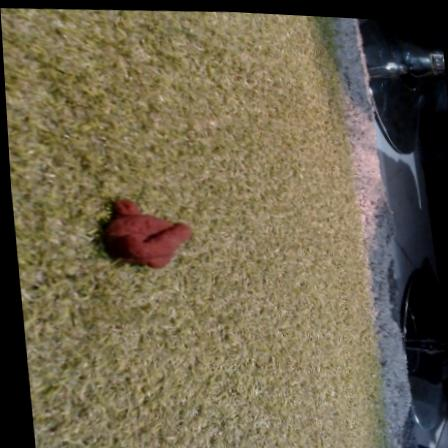dog-poop: (92, 183, 197, 276)
